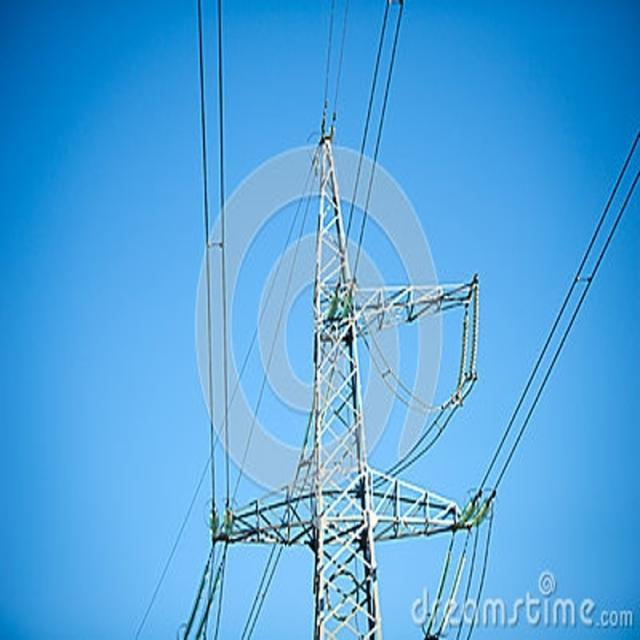non-critical vegetation: (212, 138, 485, 633)
